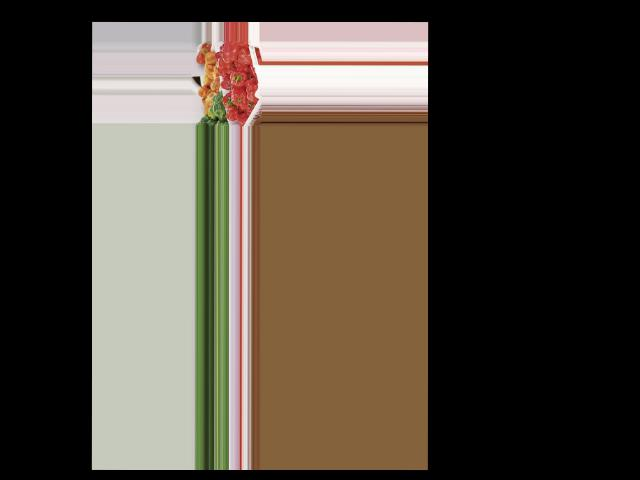bell_pepper: (245, 77, 259, 102)
